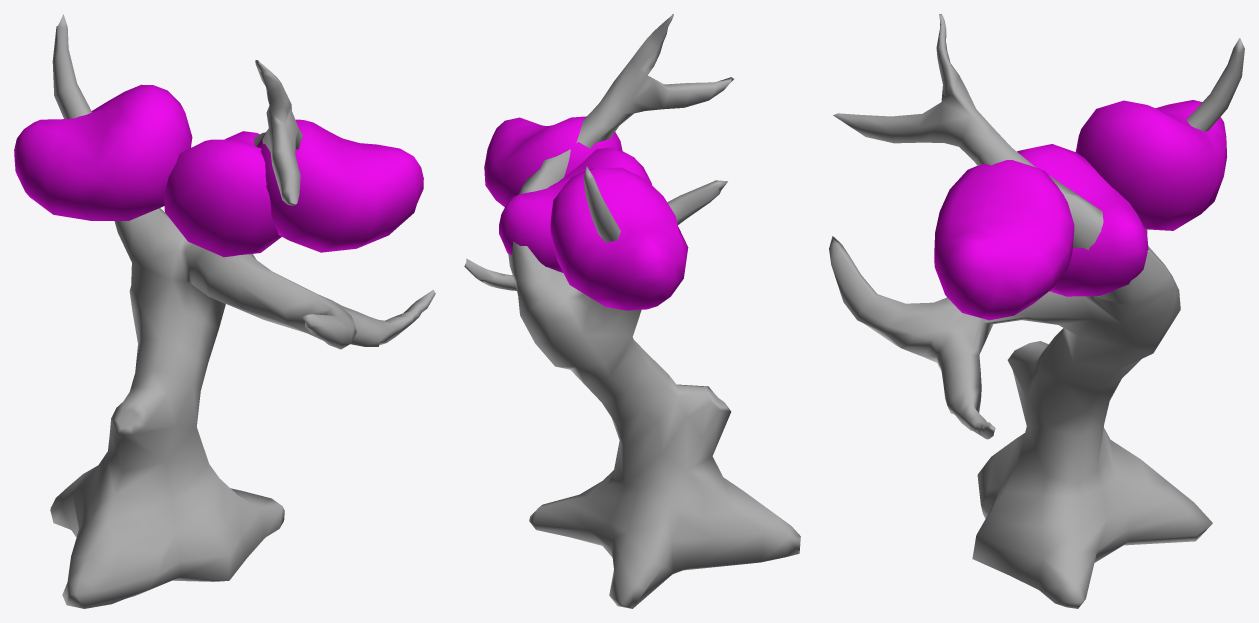
Rendered from treeShld.fbx.
The picture shows the model from 3 angles, left to right: view 1: azimuth 30°, elevation 25°; view 2: azimuth 150°, elevation 25°; view 3: azimuth 270°, elevation 25°; orthographic projection. The views are drawn at different scales.
Parts seen in each view (by area): view 1: polySurface8; view 2: polySurface8; view 3: polySurface8.
Part boxes in pixels (bbox=[...]): polySurface8: bbox=[14, 14, 435, 608]; polySurface8: bbox=[464, 14, 800, 608]; polySurface8: bbox=[829, 14, 1244, 608].
Size of the model in its own units: 1043 by 1472 by 989.
